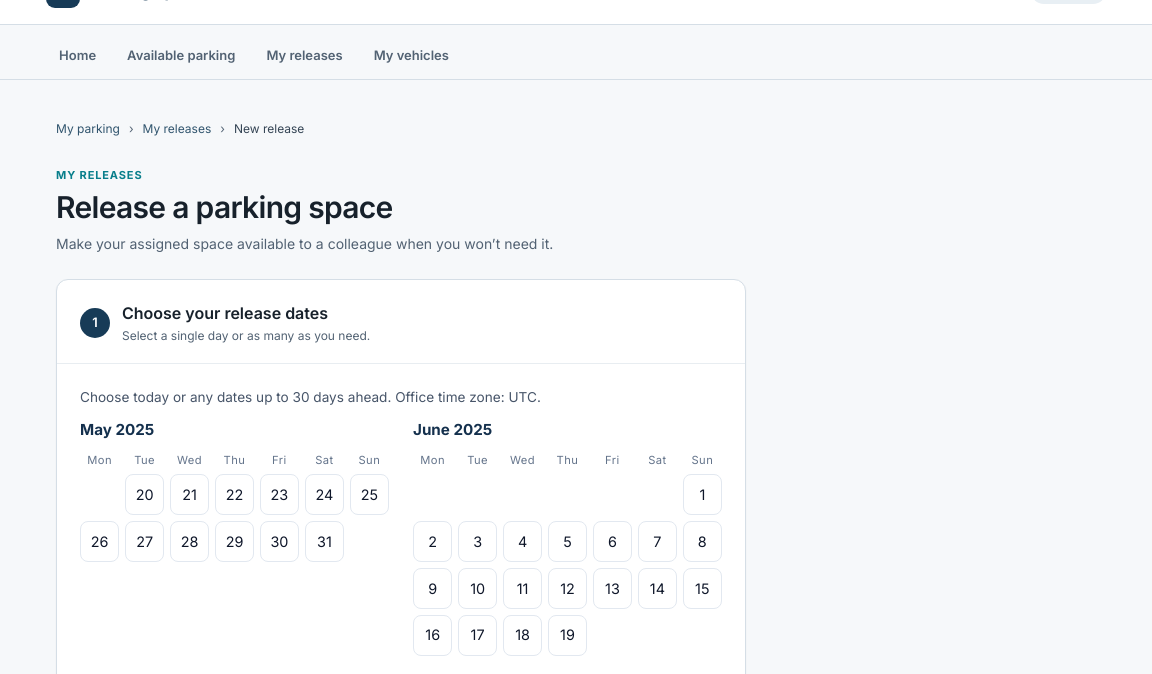
it: [AC-1] date range allows today through 30 days and displays the API release date and status
Check: the button named "2025-06-19" is shown, box [548, 615, 587, 656]
What coordinates should you click on to do the following:
click the button named "2025-05-20"
I would click on:
 (145, 495)
Its box is [125, 474, 164, 516].
(page scrolled)
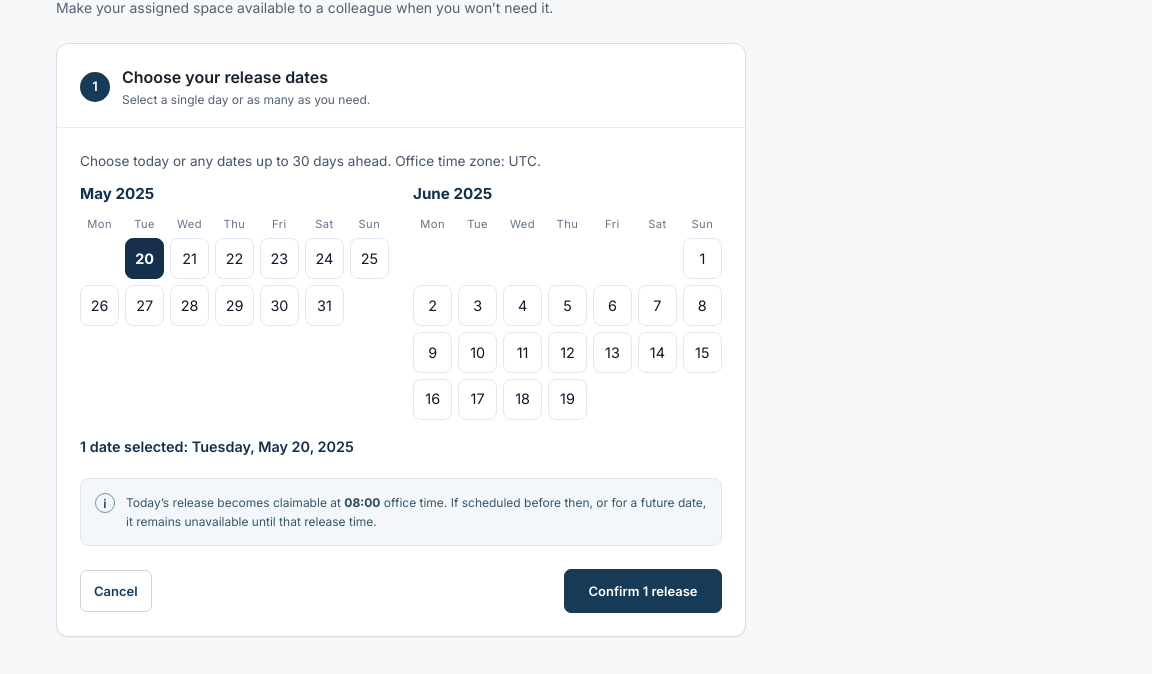
Check: the button named "2025-05-20" is pressed, box [125, 238, 164, 280]
What coordinates should you click on to do the following:
click the button "Confirm 1 release"
I would click on:
 (643, 592)
Its box is [564, 570, 722, 614].
(page scrolled)
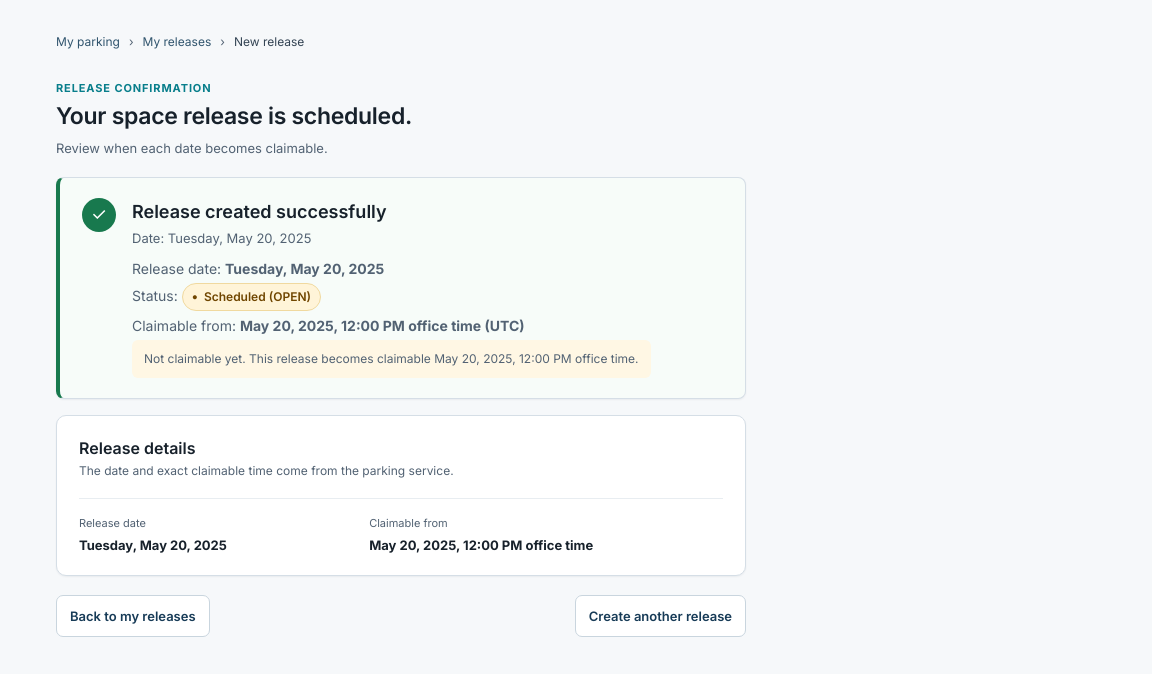
Check: the text "Status: • Scheduled (OPEN)" is shown, box [132, 283, 321, 311]
Check: the text "Scheduled (OPEN)" is shown, box [204, 289, 311, 304]
Check: the 1st text "Tuesday, May 20, 2025" is shown, box [168, 230, 311, 246]
